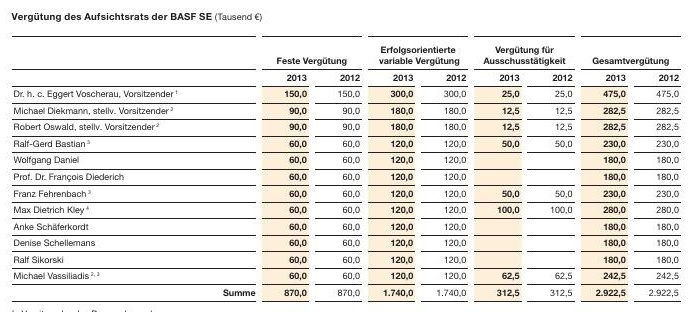table: (0, 0, 691, 312)
